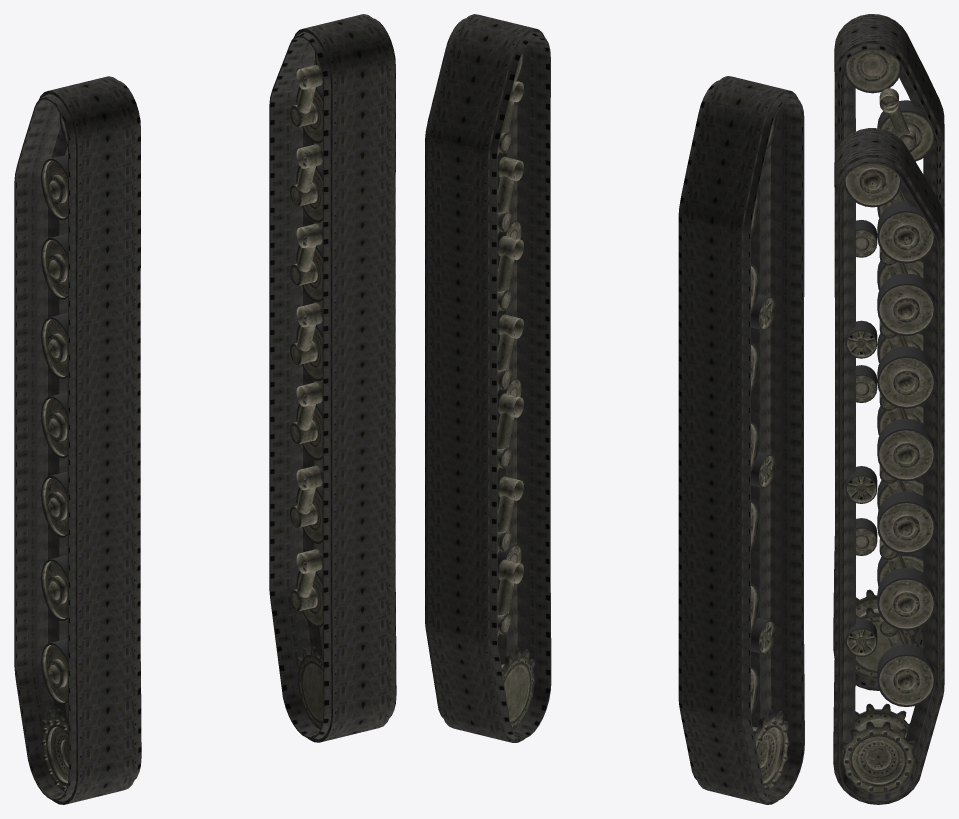
The model's file is Chassis.glb.
3 views of the same model, side by side, from view 1: azimuth 30°, elevation 25°; view 2: azimuth 150°, elevation 25°; view 3: azimuth 270°, elevation 25° (orthographic). The views are drawn at different scales.
Visible parts, largest first — view 1: set_0_group_0, set_1_group_0, set_3_group_0, set_2_group_0; view 2: set_0_group_0, set_1_group_0, set_3_group_0, set_2_group_0; view 3: set_3_group_0, set_1_group_0, set_2_group_0, set_0_group_0.
Part boxes in pixels (x1,y1,x2,y2): set_0_group_0: [14, 76, 141, 804]; set_1_group_0: [269, 14, 396, 742]; set_3_group_0: [290, 51, 323, 729]; set_2_group_0: [41, 113, 68, 791]; set_0_group_0: [678, 76, 804, 804]; set_1_group_0: [425, 14, 551, 742]; set_3_group_0: [497, 51, 534, 729]; set_2_group_0: [751, 113, 789, 791]; set_3_group_0: [842, 163, 935, 792]; set_1_group_0: [833, 128, 944, 804]; set_2_group_0: [844, 49, 934, 678]; set_0_group_0: [833, 14, 944, 690].
Size of the model in its own units: 3.28 by 6.8 by 1.05.
Materials: 4 (4 with a texture image).
